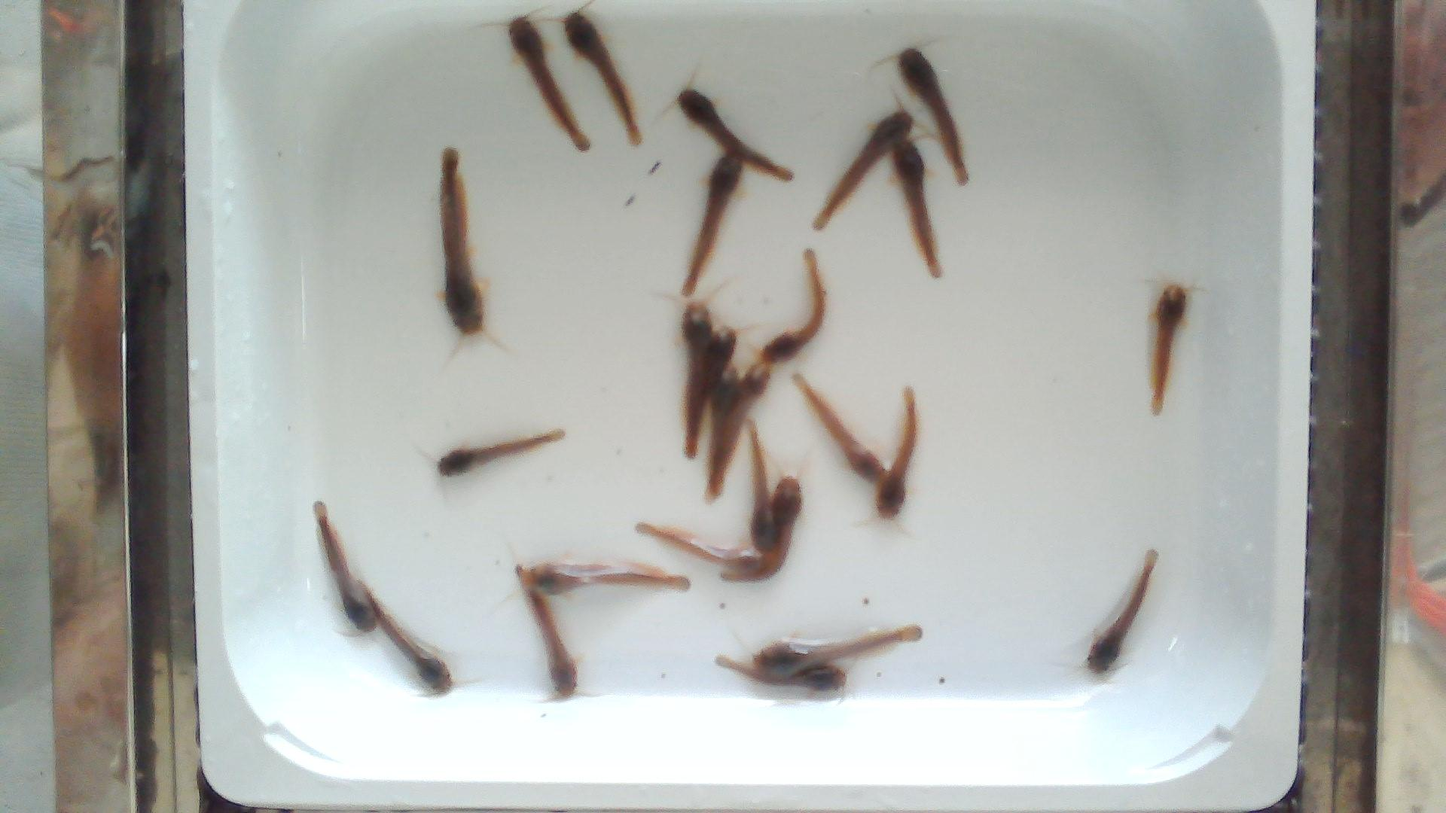lele: (808, 109, 912, 231), (508, 17, 590, 151), (677, 87, 792, 179), (792, 375, 888, 482), (564, 11, 641, 143), (365, 587, 454, 697), (898, 48, 969, 185), (1086, 550, 1158, 674), (313, 501, 378, 636), (706, 364, 769, 501), (719, 477, 801, 582), (754, 629, 924, 679), (682, 155, 743, 294), (757, 247, 826, 367), (440, 148, 484, 336), (890, 140, 943, 283), (685, 327, 739, 456), (636, 523, 764, 575), (520, 559, 689, 596), (524, 594, 578, 701), (438, 430, 565, 475), (875, 386, 917, 521), (713, 656, 844, 696), (1151, 285, 1187, 414), (743, 423, 776, 553), (681, 302, 715, 423), (708, 368, 739, 471)
